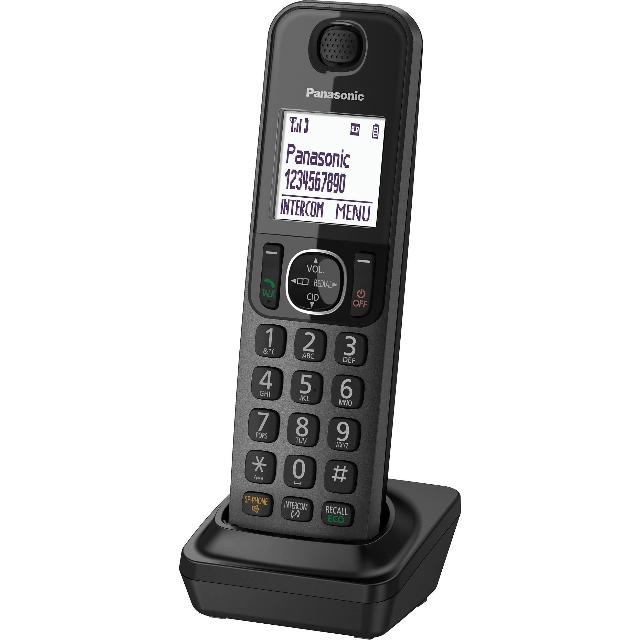Telephone-Set: (147, 2, 479, 640)
